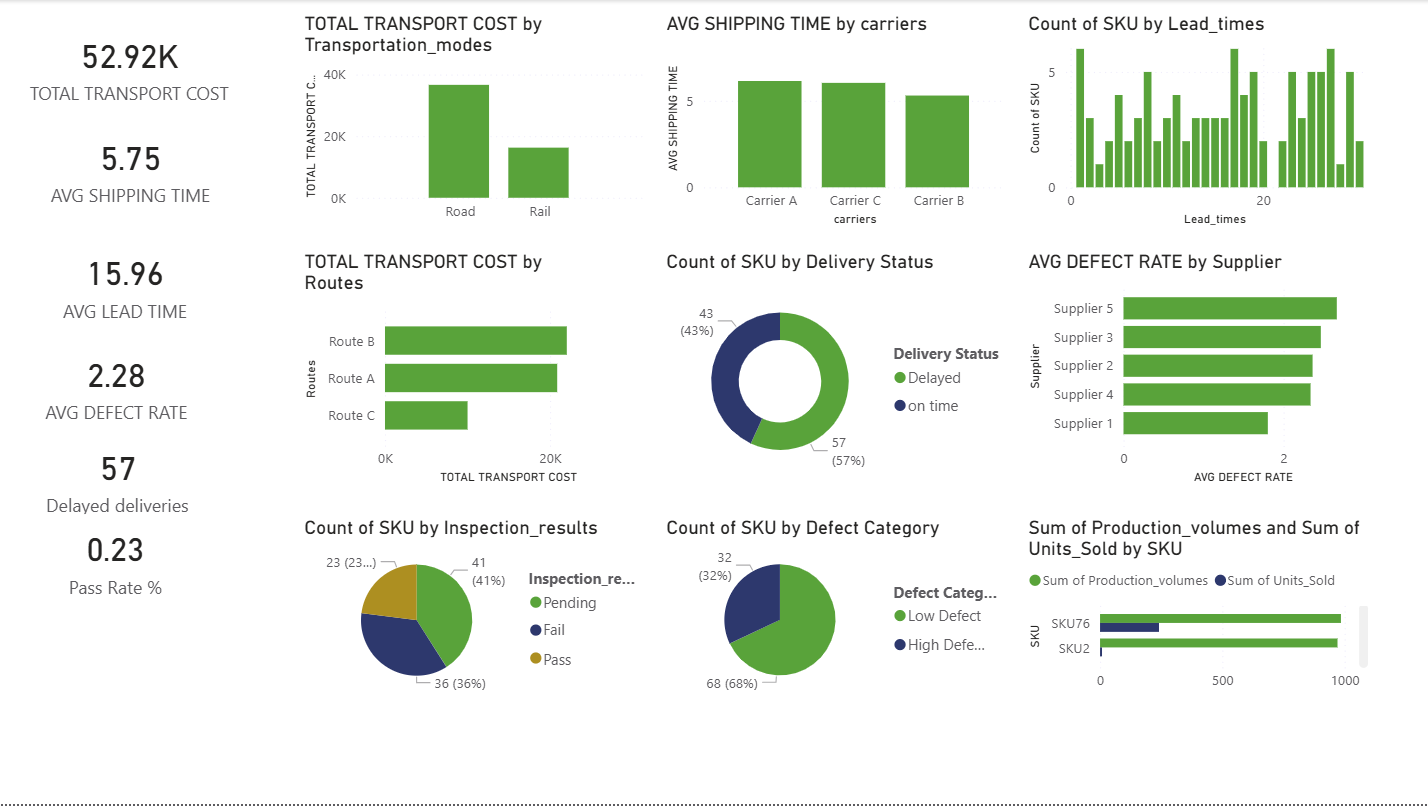

The dashboard page shown, as its layout file describes it:
{"tool":"powerbi","page":{"name":"Logistics and quality analytics ","canvas":[1280,720],"ordinal":1},"visuals":[{"type":"card","fields":{"Values":["Dimension_customer.Total Transport cost"]},"box":[24.9,36.9,162.6,112.7],"z":0},{"type":"card","fields":{"Values":["Dimension_customer.Average Shipping time"]},"box":[24.9,175.6,179.6,88.8],"z":1000},{"type":"card","fields":{"Values":["Dimension_customer.Average lead time"]},"box":[24.9,287.3,162.6,102.8],"z":2000},{"type":"card","fields":{"Values":["Dimension_customer.Average Defect rate"]},"box":[204.5,36.9,173.6,112.7],"z":3000},{"type":"card","fields":{"Values":["Dimension_customer.Delayed"]},"box":[226.5,170.6,151.6,93.8],"z":4000},{"type":"card","fields":{"Values":["Dimension_customer.Pass rate %"]},"box":[204.5,287.3,173.6,102.8],"z":5000},{"type":"clusteredColumnChart","fields":{"Y":["Dimension_customer.Total Transport cost"],"Category":["Dimension_logistics.Transportation_modes"]},"box":[16,425,286.3,268.4],"z":6000},{"type":"barChart","fields":{"Y":["Dimension_customer.Total Transport cost"],"Category":["Dimension_logistics.Routes"]},"box":[318.3,435,285.3,268.4],"z":7000},{"type":"columnChart","fields":{"Category":["Dimension_logistics.Carriers"],"Y":["Dimension_customer.Average Shipping time"]},"box":[407,24.9,233.5,216.5],"z":8000},{"type":"donutChart","fields":{"Y":["CountNonNull(Fact_supply_chain.SKU)"],"Category":["Fact_supply_chain.Delivery_status"]},"box":[673.4,24.9,309.3,216.5],"z":9000},{"type":"columnChart","fields":{"Category":["Fact_supply_chain.Lead_times"],"Y":["CountNonNull(Fact_supply_chain.SKU)"]},"box":[627.5,443,333.2,268.4],"z":10000},{"type":"barChart","fields":{"Y":["Dimension_customer.Average Defect rate"],"Category":["Fact_supply_chain.Supplier"]},"box":[1006.6,24.9,260.4,228.5],"z":11000},{"type":"pieChart","fields":{"Category":["Fact_supply_chain.Inspection_results"],"Y":["CountNonNull(Fact_supply_chain.SKU)"]},"box":[755.2,264.4,311.3,160.6],"z":12000},{"type":"donutChart","fields":{"Category":["Fact_supply_chain.Defect_category "],"Y":["CountNonNull(Fact_supply_chain.SKU)"]},"box":[429,264.4,313.3,149.6],"z":13000},{"type":"clusteredBarChart","fields":{"Category":["Fact_supply_chain.SKU"],"Y":["Sum(Fact_supply_chain.Production_volumes)","Sum(Fact_supply_chain.units_sold)"]},"box":[969.6,441.2,289.2,270.6],"z":14000}]}

Visuals, with their boxes in screenshot pixels (x1, y1, x2, y2), scaled from the page's 1280x720 canvas onto the 1428x806 screenshot:
card - Dimension_customer.Total Transport cost: bbox=[28, 41, 209, 167]
card - Dimension_customer.Average Shipping time: bbox=[28, 197, 228, 296]
card - Dimension_customer.Average lead time: bbox=[28, 322, 209, 437]
card - Dimension_customer.Average Defect rate: bbox=[228, 41, 422, 167]
card - Dimension_customer.Delayed: bbox=[253, 191, 422, 296]
card - Dimension_customer.Pass rate %: bbox=[228, 322, 422, 437]
clusteredColumnChart - Dimension_customer.Total Transport cost x Dimension_logistics.Transportation_modes: bbox=[18, 476, 337, 776]
barChart - Dimension_customer.Total Transport cost x Dimension_logistics.Routes: bbox=[355, 487, 673, 787]
columnChart - Dimension_logistics.Carriers x Dimension_customer.Average Shipping time: bbox=[454, 28, 715, 270]
donutChart - CountNonNull(Fact_supply_chain.SKU) x Fact_supply_chain.Delivery_status: bbox=[751, 28, 1096, 270]
columnChart - Fact_supply_chain.Lead_times x CountNonNull(Fact_supply_chain.SKU): bbox=[700, 496, 1072, 796]
barChart - Dimension_customer.Average Defect rate x Fact_supply_chain.Supplier: bbox=[1123, 28, 1413, 284]
pieChart - Fact_supply_chain.Inspection_results x CountNonNull(Fact_supply_chain.SKU): bbox=[843, 296, 1190, 476]
donutChart - Fact_supply_chain.Defect_category  x CountNonNull(Fact_supply_chain.SKU): bbox=[479, 296, 828, 463]
clusteredBarChart - Fact_supply_chain.SKU x Sum(Fact_supply_chain.Production_volumes): bbox=[1082, 494, 1404, 797]
